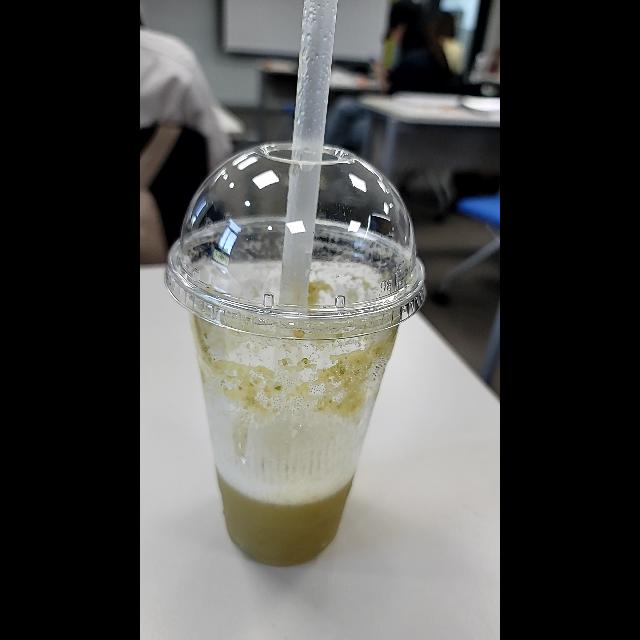plastic_cup: (162, 140, 426, 572)
plastic_cup_lid: (160, 141, 432, 345)
straw: (274, 2, 344, 314)
